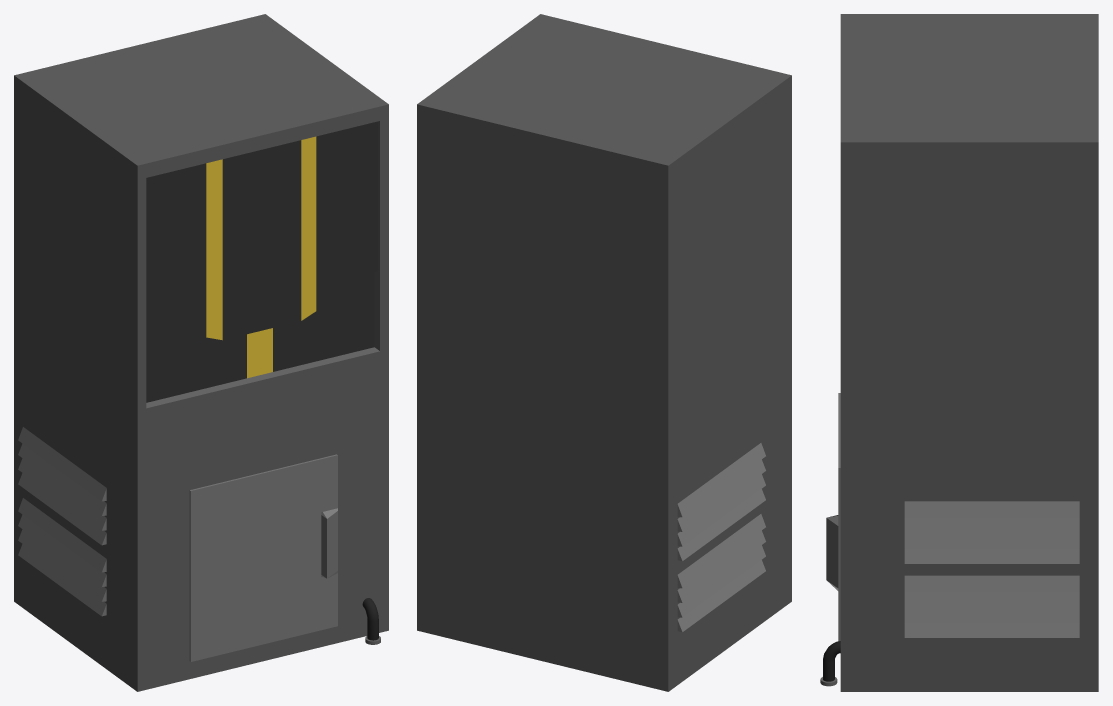
The model's file is machine1.fbx.
3 renders of one model, left to right at view 1: azimuth 30°, elevation 25°; view 2: azimuth 150°, elevation 25°; view 3: azimuth 270°, elevation 25°, orthographic. The views are drawn at different scales.
Parts seen in each view (by area): view 1: Machine1; view 2: Machine1; view 3: Machine1.
Part boxes in pixels (<box>): Machine1: <box>14,14,388,691</box>; Machine1: <box>417,14,791,691</box>; Machine1: <box>820,14,1098,691</box>.
Size of the model in its own units: 83.29 by 73.33 by 161.
